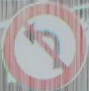Don't turn left: (6, 2, 81, 81)
